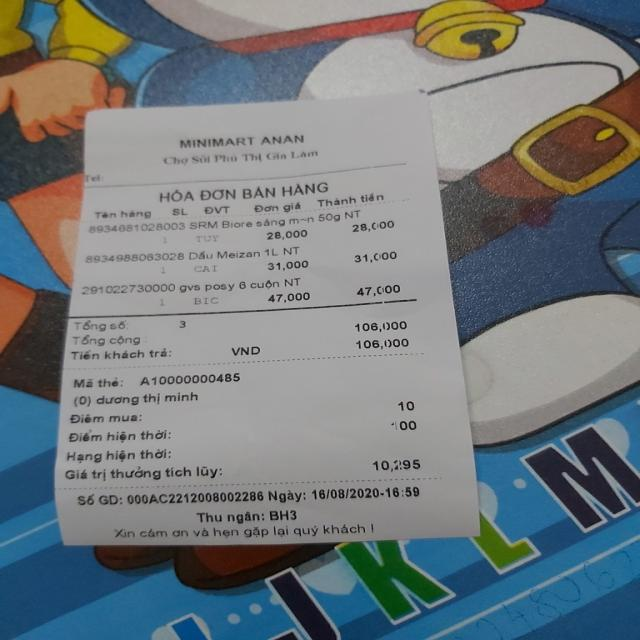Date: (310, 486, 380, 499)
Store_Name: (175, 132, 311, 147)
amount_number: (349, 319, 410, 334)
label_total: (70, 334, 142, 346)
